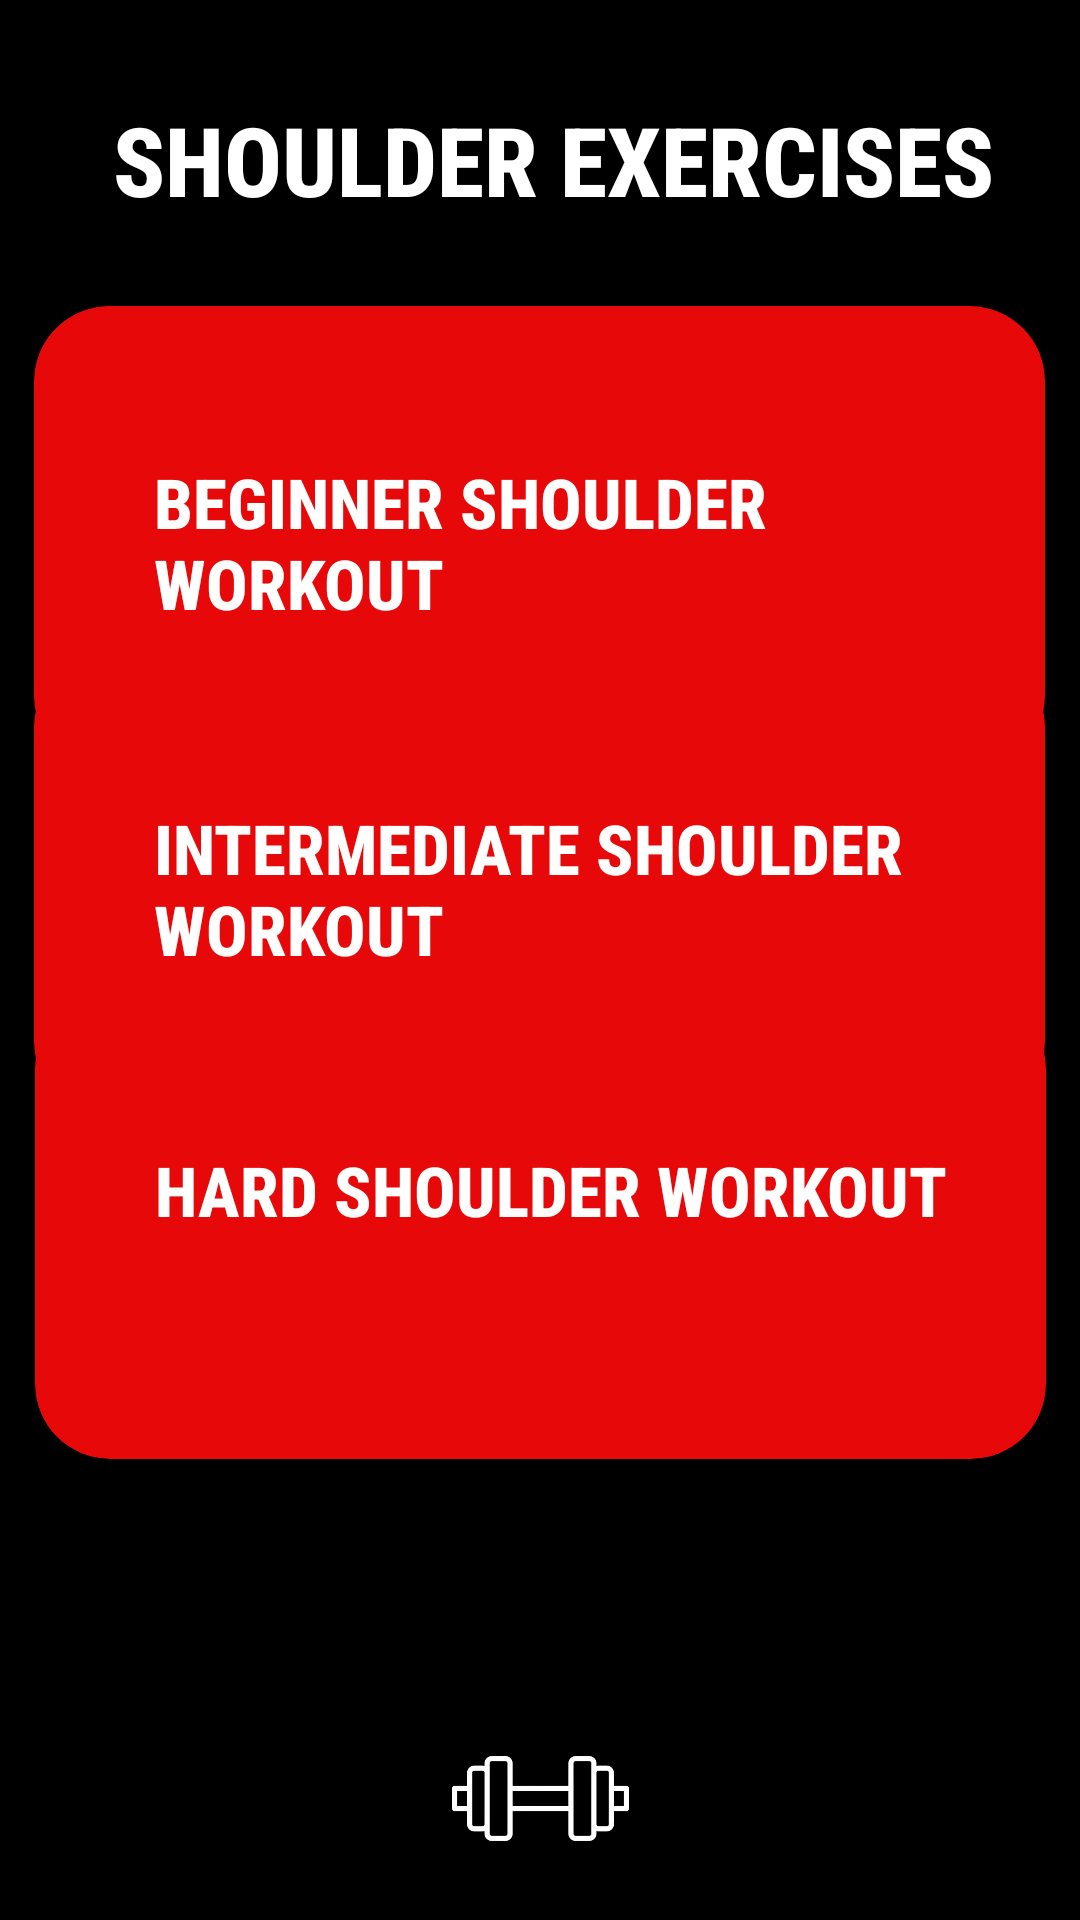

Screen size 1080px x 1920px. Icon name, then its center in pixels as [x,y]:
imgdumbell: [540,1798]
